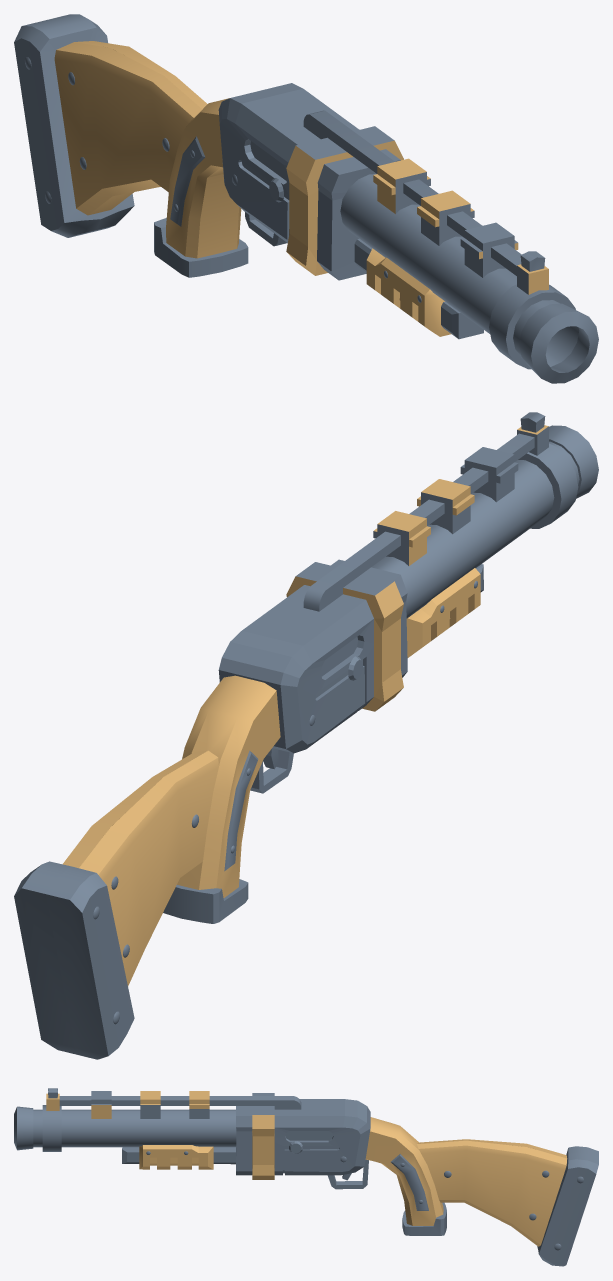
The model's file is Pistola2.fbx.
3 renders of one model, top to bottom at view 1: azimuth 30°, elevation 25°; view 2: azimuth 150°, elevation 25°; view 3: azimuth 270°, elevation 25°, orthographic. The views are drawn at different scales.
Visible parts, largest first — view 1: Escopeta1; view 2: Escopeta1; view 3: Escopeta1.
Part boxes in pixels (left/top/right/bottom): Escopeta1: left=14, top=14, right=598, bottom=383; Escopeta1: left=14, top=412, right=598, bottom=1059; Escopeta1: left=14, top=1088, right=598, bottom=1266.
Size of the model in its own units: 194 by 580 by 1792.
